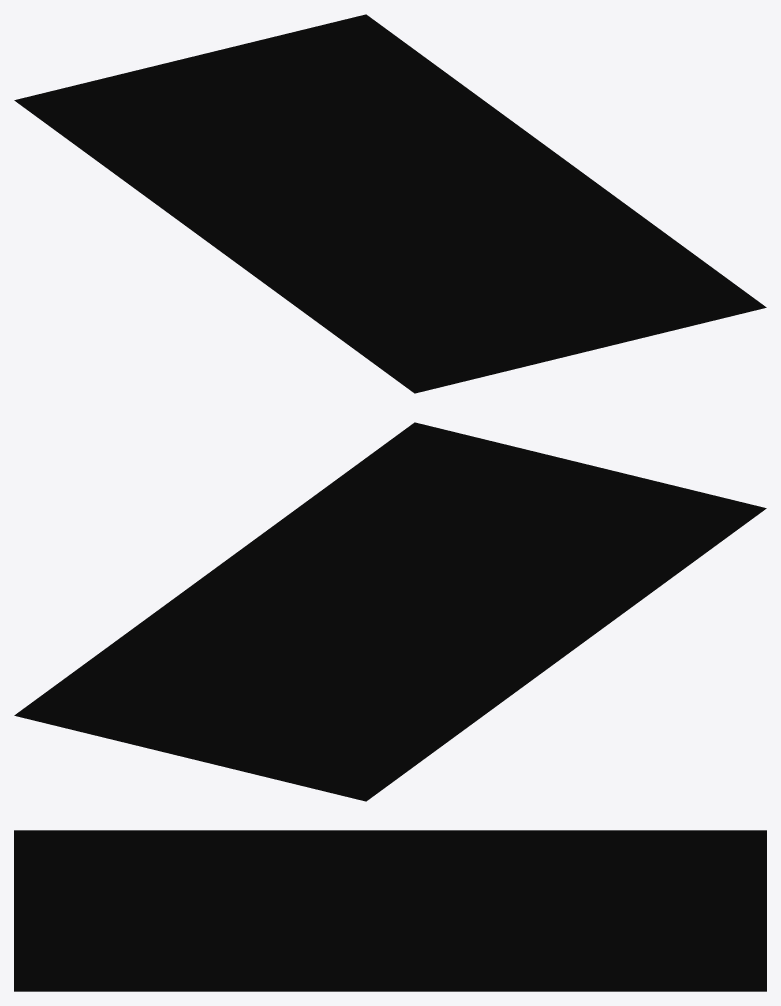
Rendered from Map-Stage-3.fbx.
The picture shows the model from 3 angles, top to bottom: view 1: azimuth 30°, elevation 25°; view 2: azimuth 150°, elevation 25°; view 3: azimuth 270°, elevation 25°; orthographic projection. The views are drawn at different scales.
Parts seen in each view (by area): view 1: Map-Stage-3; view 2: Map-Stage-3; view 3: Map-Stage-3.
Part boxes in pixels (bbox=[...]): Map-Stage-3: bbox=[14, 14, 766, 393]; Map-Stage-3: bbox=[14, 422, 766, 801]; Map-Stage-3: bbox=[14, 830, 766, 991].
Size of the model in its own units: 62 by 0.2 by 122.
